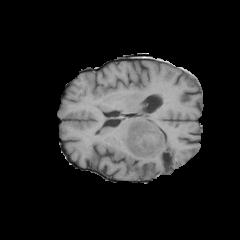glioma: (113, 119, 180, 173)
